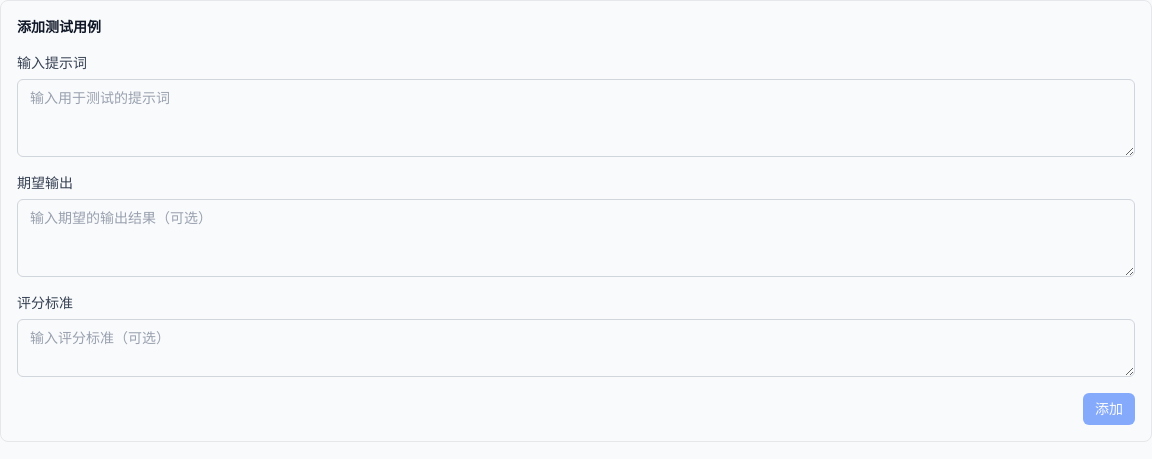
Test: TestCaseForm › 输入提示词后提交按钮应该启用
Type "一个测试提示词" into the text box labelled "输入提示词". click: (576, 118)
box: [17,79,1135,157]
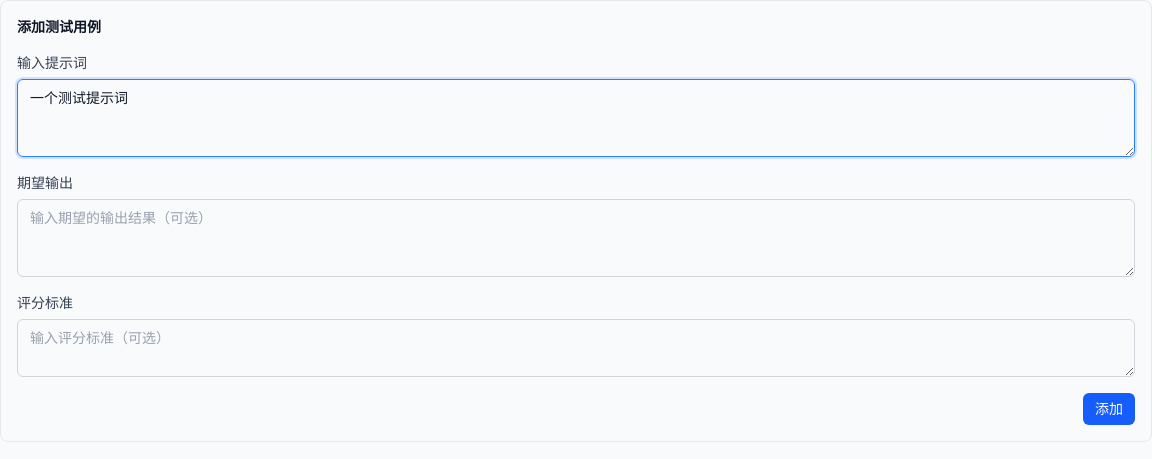
Check: the button "添加" is enabled, box [1083,393,1135,425]
